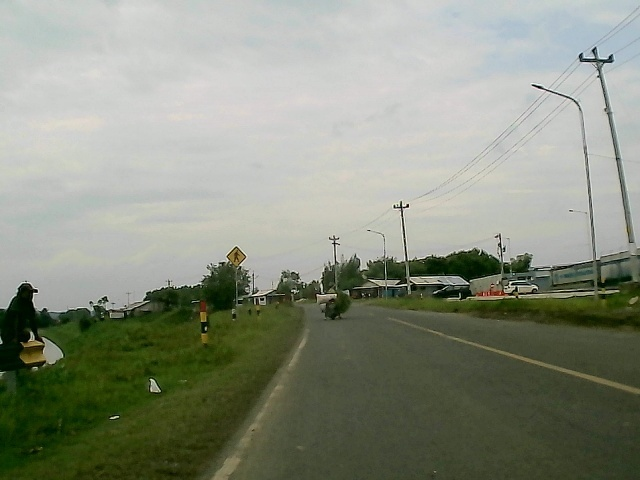Peringatan orang menyeberang: (224, 244, 249, 269)
